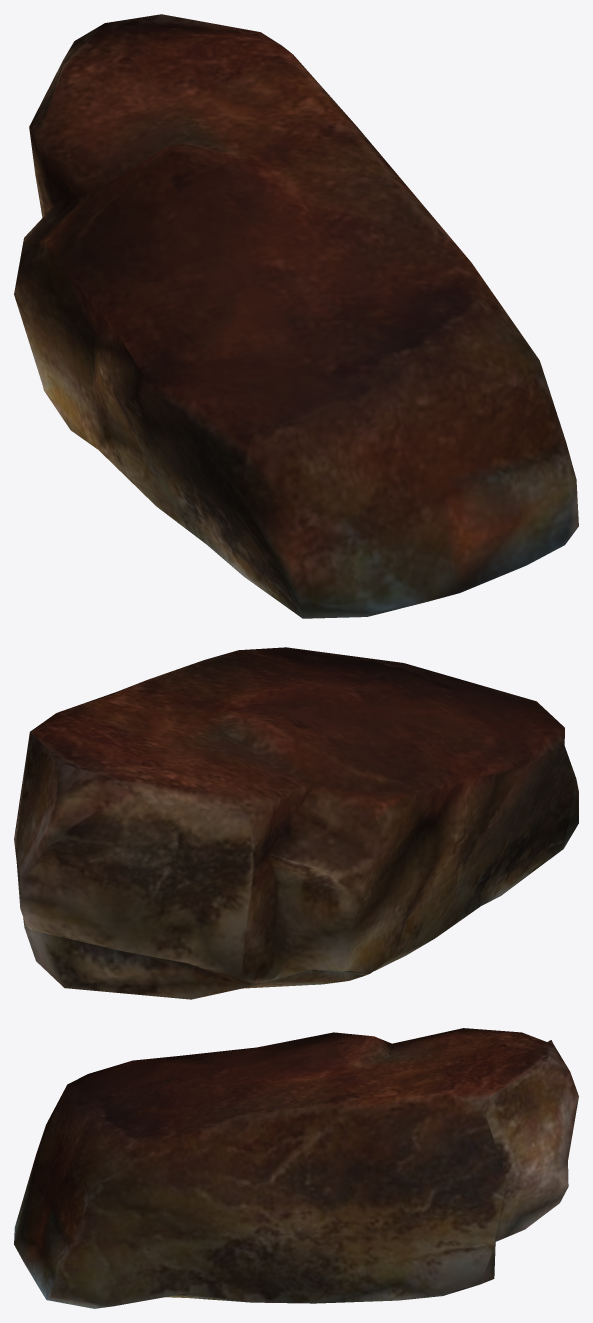
File: rock_07.glb
The picture shows the model from 3 angles, top to bottom: view 1: azimuth 30°, elevation 25°; view 2: azimuth 150°, elevation 25°; view 3: azimuth 270°, elevation 25°; orthographic projection. The views are drawn at different scales.
Visible parts, largest first — view 1: rock_07; view 2: rock_07; view 3: rock_07.
Boxes of the visible parts, left/top/right/bottom form: rock_07: left=14, top=14, right=578, bottom=618; rock_07: left=14, top=647, right=578, bottom=999; rock_07: left=14, top=1028, right=578, bottom=1308.
Size of the model in its own units: 0.1667 by 0.1405 by 0.3194.
1 material, 1 textured.
